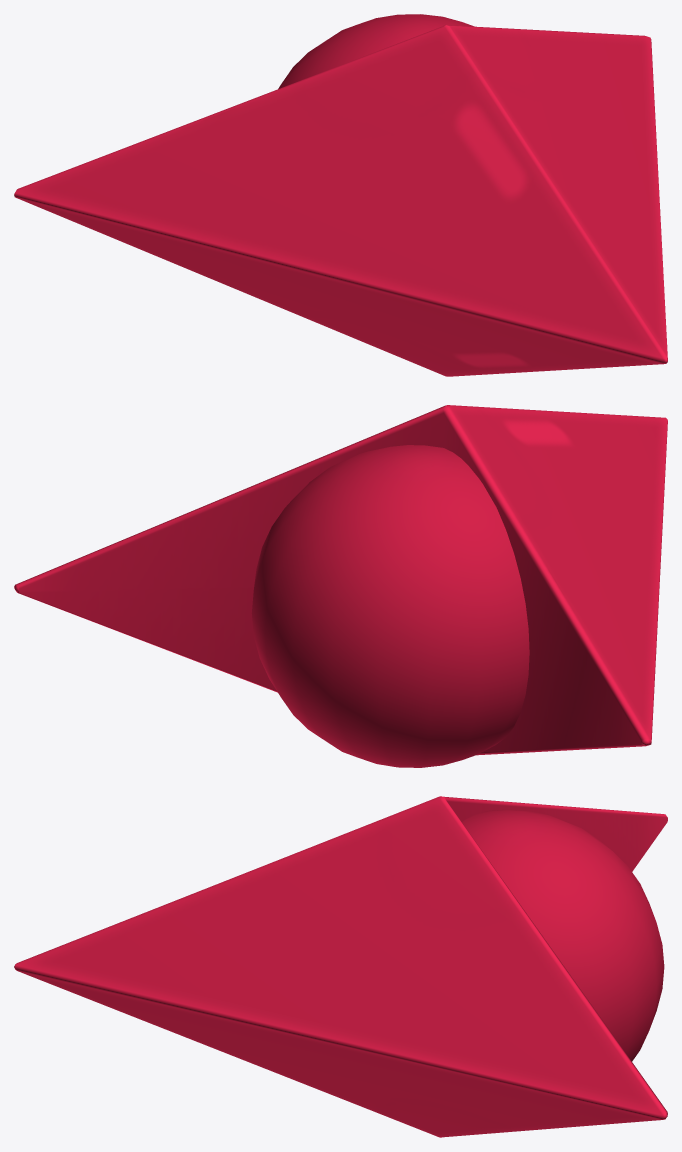
The model's file is Soulbind_M (2).fbx.
3 renders of one model, top to bottom at view 1: azimuth 30°, elevation 25°; view 2: azimuth 150°, elevation 25°; view 3: azimuth 270°, elevation 25°, orthographic. The views are drawn at different scales.
Visible parts, largest first — view 1: Soulbind_M; view 2: Soulbind_M; view 3: Soulbind_M.
Part boxes in pixels (x1,y1,x2,y2): Soulbind_M: (14, 14, 667, 376); Soulbind_M: (14, 405, 667, 767); Soulbind_M: (14, 796, 667, 1137).
Size of the model in its own units: 1.29 by 0.6778 by 1.18.
Materials: 1 (1 with a texture image).
